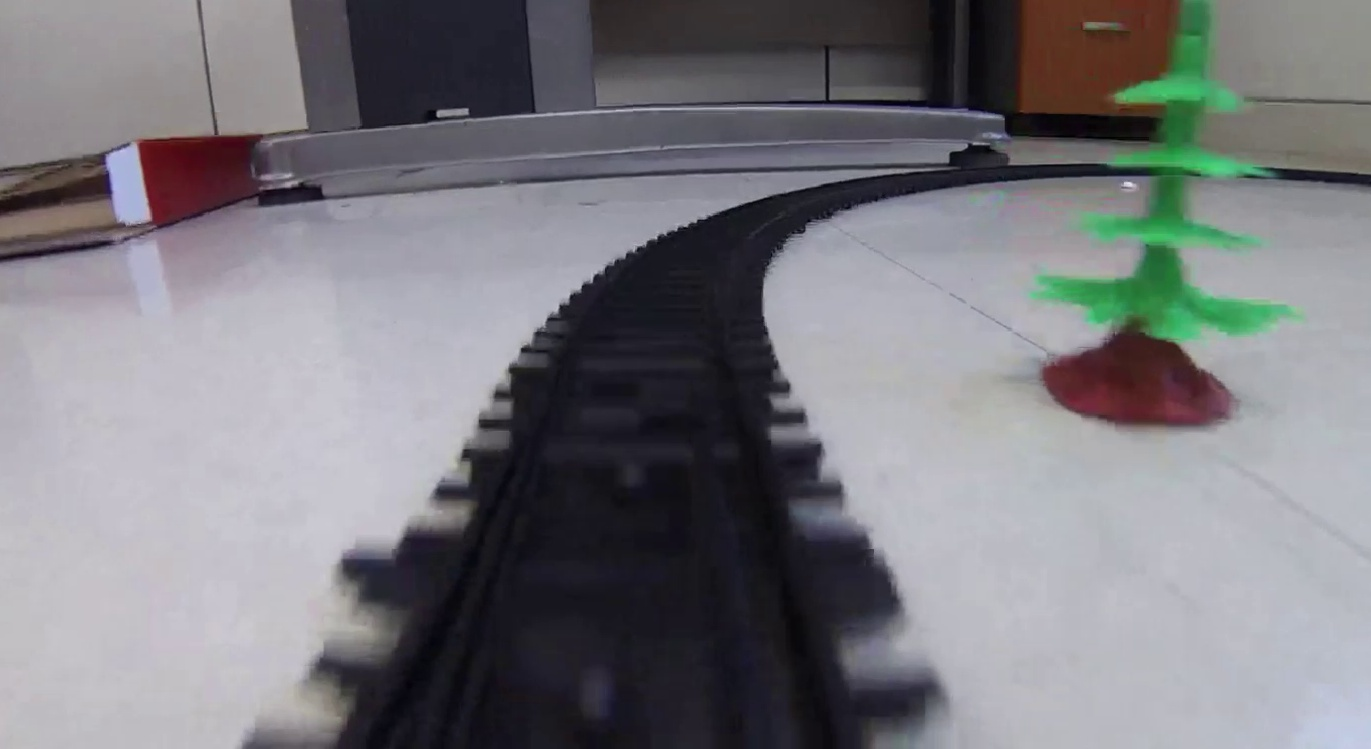tree: (1030, 4, 1298, 427)
